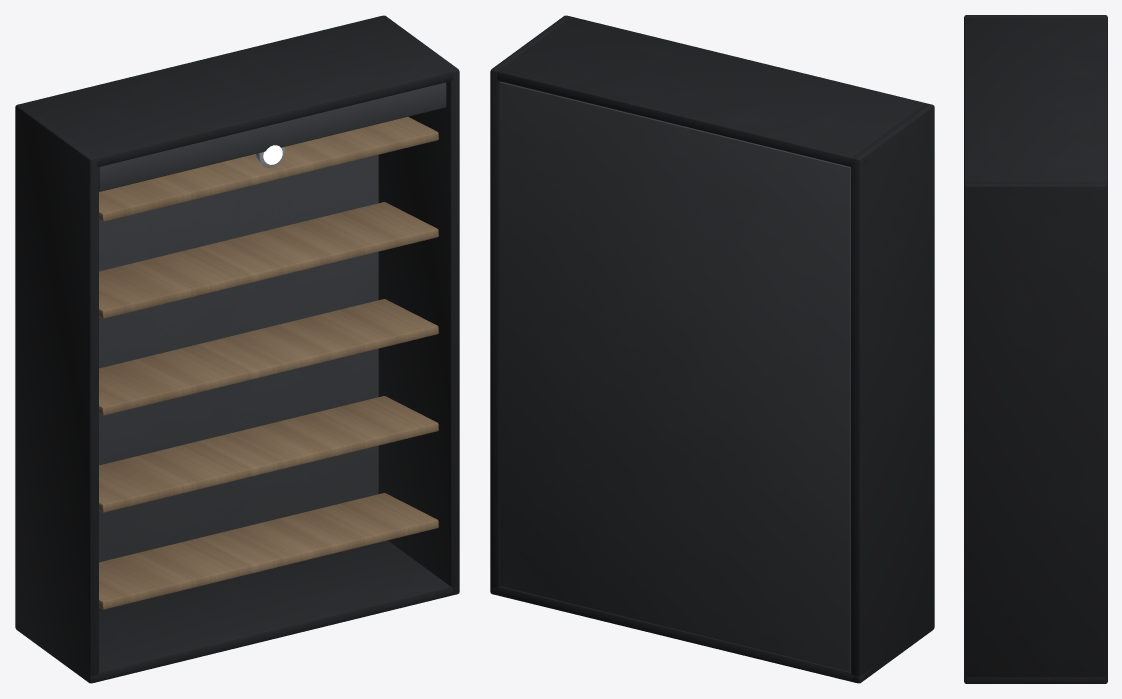
The model's file is pf_display_shoe_display_t2.glb.
3 views of the same model, side by side, from view 1: azimuth 30°, elevation 25°; view 2: azimuth 150°, elevation 25°; view 3: azimuth 270°, elevation 25° (orthographic). The views are drawn at different scales.
Parts seen in each view (by area): view 1: Case_Back, Case_Left, Case_Top, Case_Right, Case_Base, Angled_Shoe_Shelf_03, Angled_Shoe_Shelf_02, Angled_Shoe_Shelf_01, Angled_Shoe_Shelf_04, Angled_Shoe_Shelf_05, Header_Back; view 2: Case_Back, Case_Left, Case_Top, Case_Right, Case_Base; view 3: Case_Right, Case_Top, Case_Base, Case_Left.
Part boxes in pixels (x1=…): Case_Back: x1=99, y1=155, x2=378, y2=562; Case_Left: x1=15, y1=103, x2=98, y2=683; Case_Top: x1=23, y1=17, x2=459, y2=166; Case_Right: x1=378, y1=15, x2=459, y2=594; Case_Base: x1=15, y1=540, x2=459, y2=682; Angled_Shoe_Shelf_03: x1=99, y1=299, x2=438, y2=415; Angled_Shoe_Shelf_02: x1=99, y1=396, x2=438, y2=512; Angled_Shoe_Shelf_01: x1=99, y1=493, x2=438, y2=609; Angled_Shoe_Shelf_04: x1=99, y1=202, x2=438, y2=318; Angled_Shoe_Shelf_05: x1=99, y1=117, x2=438, y2=221; Header_Back: x1=99, y1=82, x2=446, y2=191; Case_Back: x1=499, y1=81, x2=850, y2=671; Case_Left: x1=851, y1=103, x2=934, y2=683; Case_Top: x1=493, y1=17, x2=926, y2=166; Case_Right: x1=490, y1=15, x2=571, y2=594; Case_Base: x1=490, y1=586, x2=872, y2=683; Case_Right: x1=964, y1=182, x2=1107, y2=683; Case_Top: x1=964, y1=17, x2=1107, y2=191; Case_Base: x1=965, y1=677, x2=1105, y2=683; Case_Left: x1=964, y1=15, x2=1107, y2=19.
Size of the model in its own units: 1.3 by 1.76 by 0.46.
Materials: 6 (3 with a texture image).
